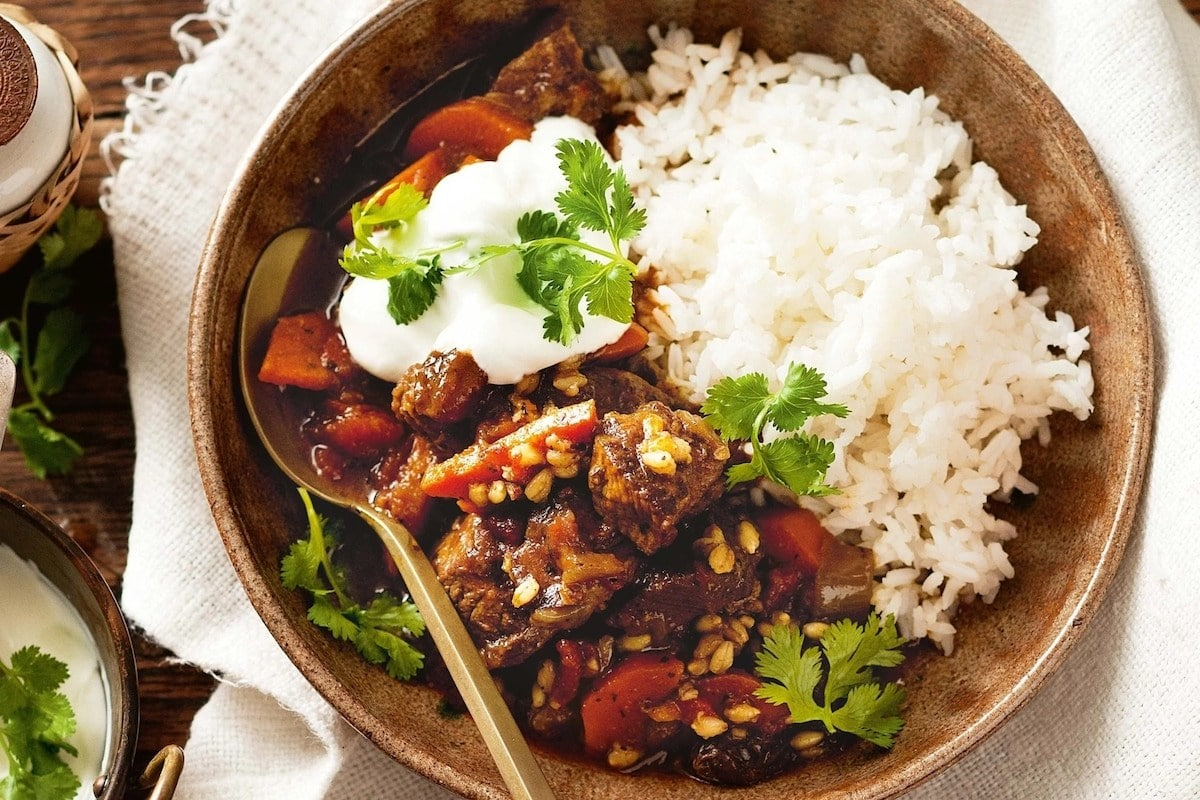plain rice: (664, 61, 1066, 582)
